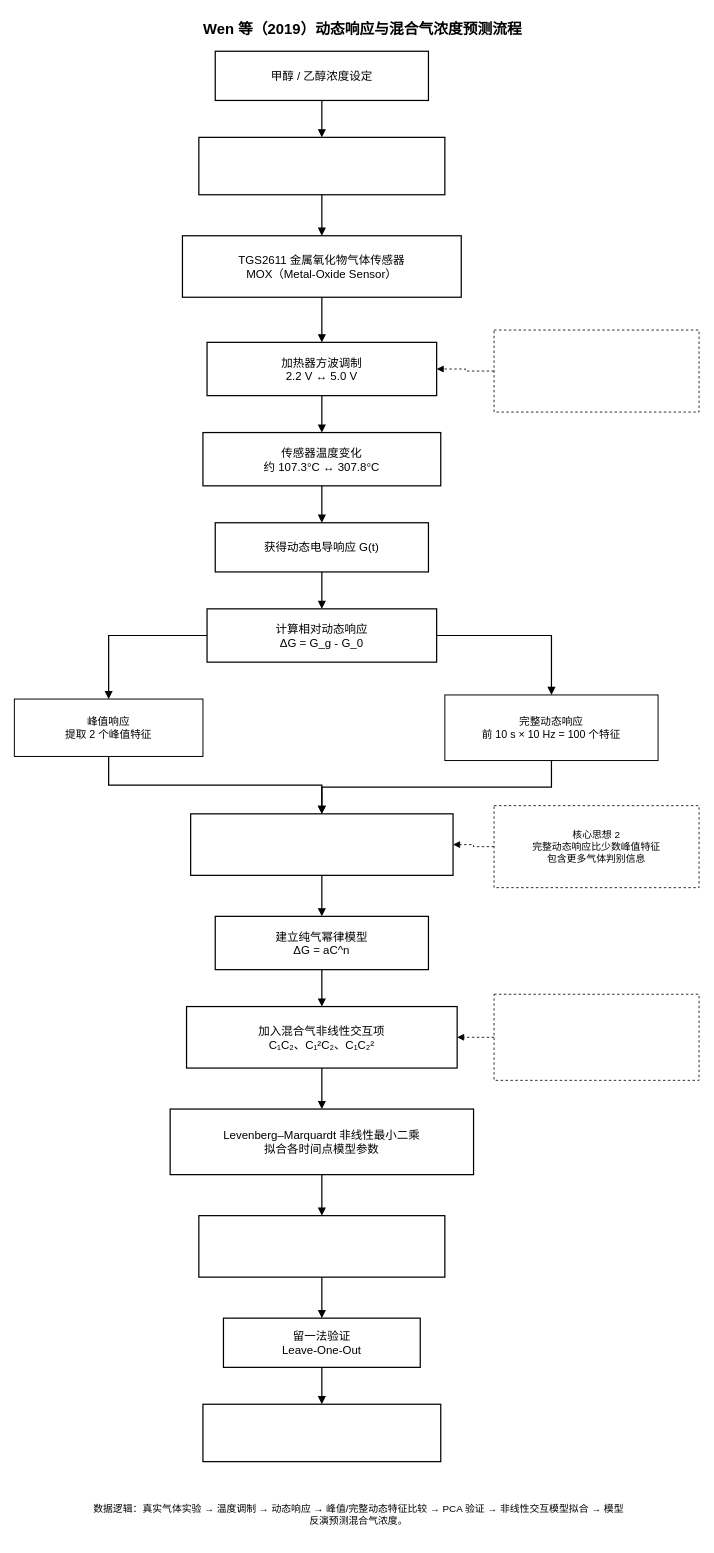
The diagram is 714 pixels wide and 1553 high, and some of its shapes have lost their labels. The shapes that lost their labels are listed below. From the top down, each one's centre as x and y in pixels, then its label:
At [321,165]: "真实气体发生器 生成纯气体与二元混合气".
At [596,370]: "核心思想 1 温度调制主动制造动态响应 利用波形形状增加选择性".
At [321,844]: "PCA 主成分分析 比较不同特征的气体可分性".
At [596,1036]: "核心思想 3 混合气响应不能简单线性相加 需显式建模组分间非线性交互".
At [321,1246]: "模型反演 动态响应 → 甲醇 / 乙醇浓度".
At [321,1432]: "输出结果 气体分类 + 浓度预测误差".
